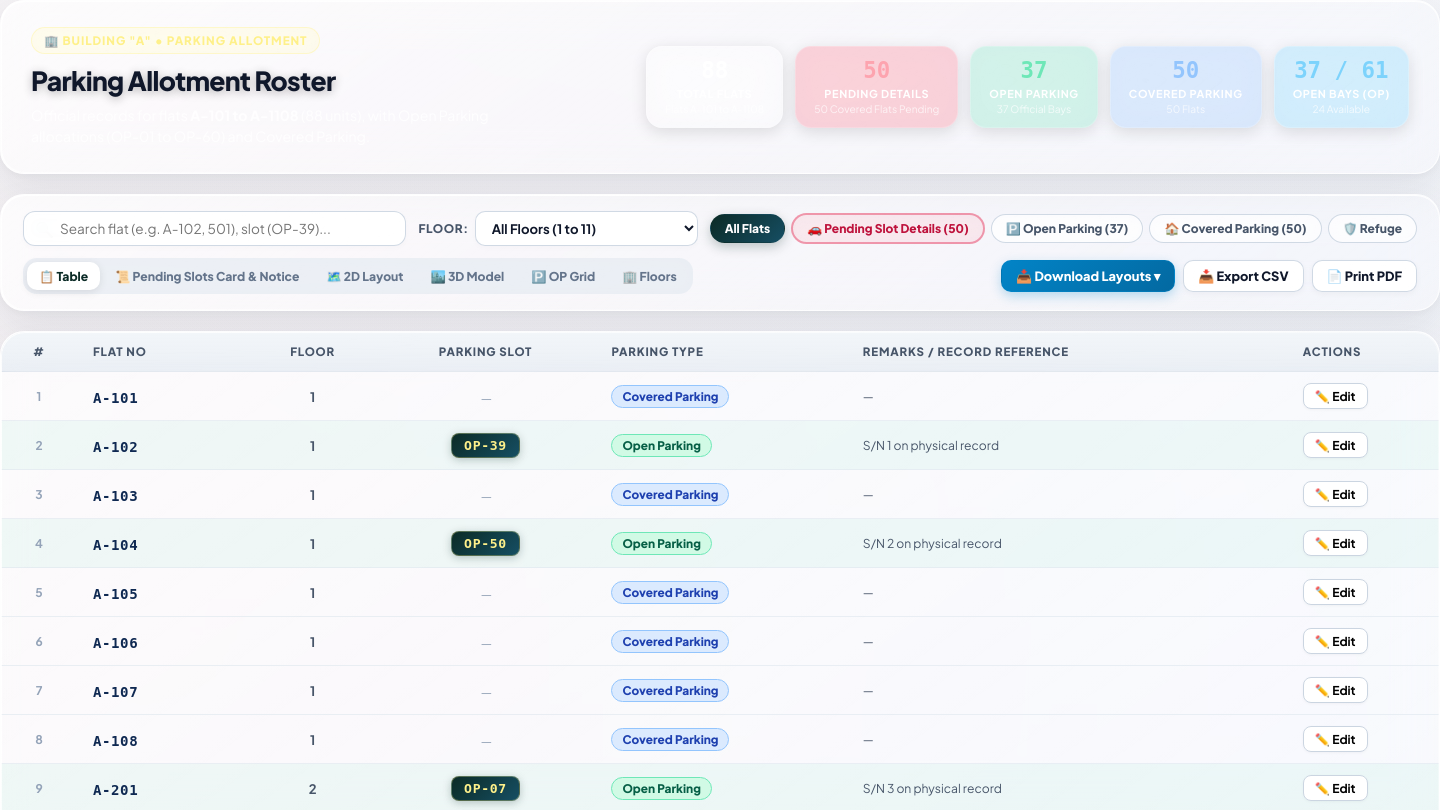
Test: ParkingAllotmentTracker › allows admins to open the edit modal for a flat
Click the 1st button "✏️ Edit" at (1335, 396), box [1303,383,1368,409]
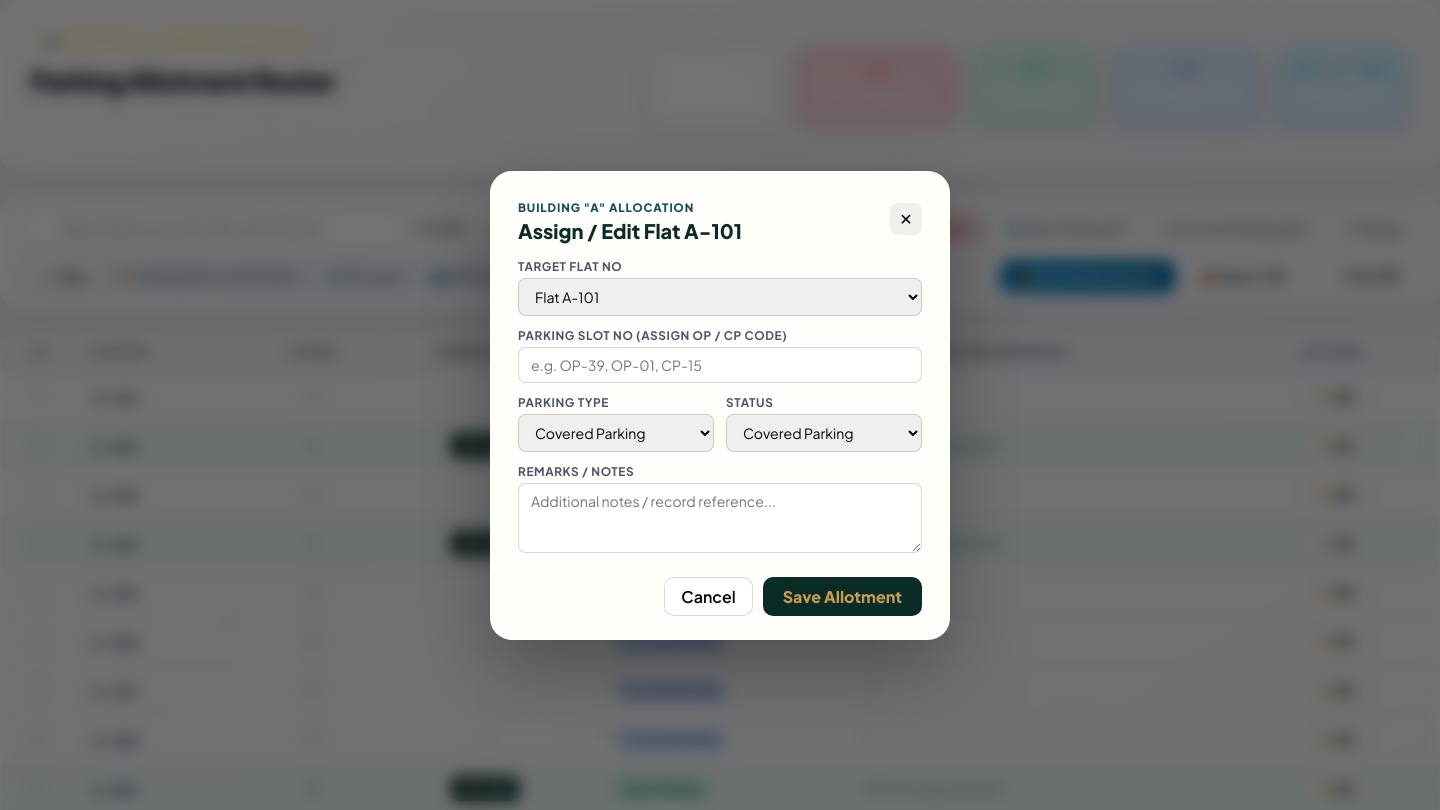
Now the heading "Assign / Edit Flat A-101" is shown, box [518,218,742,242]
Now the button "Save Allotment" is shown, box [763,576,922,616]
